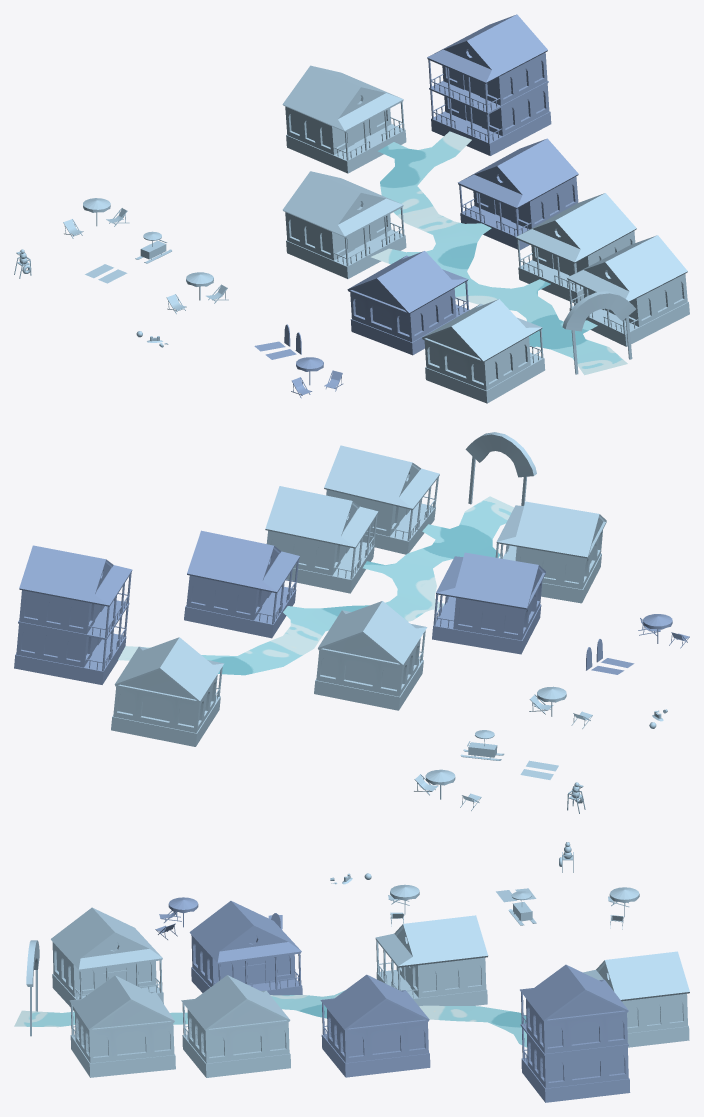
Rendered from Neighborhood_BowlcutBeachLocked.fbx.
The picture shows the model from 3 angles, top to bottom: view 1: azimuth 30°, elevation 25°; view 2: azimuth 150°, elevation 25°; view 3: azimuth 270°, elevation 25°; orthographic projection. The views are drawn at different scales.
Visible parts, largest first — view 1: Neighborhood_BowlcutBeach_Locked, Object_BowlCutRoad1; view 2: Neighborhood_BowlcutBeach_Locked, Object_BowlCutRoad1; view 3: Neighborhood_BowlcutBeach_Locked, Object_BowlCutRoad1.
Part boxes in pixels (x1,y1,x2,y2): Neighborhood_BowlcutBeach_Locked: [14, 14, 689, 403]; Object_BowlCutRoad1: [371, 131, 627, 375]; Neighborhood_BowlcutBeach_Locked: [14, 432, 689, 813]; Object_BowlCutRoad1: [118, 496, 514, 675]; Neighborhood_BowlcutBeach_Locked: [26, 842, 689, 1102]; Object_BowlCutRoad1: [14, 990, 527, 1047].
Size of the model in its own units: 4537 by 1129 by 4797.
